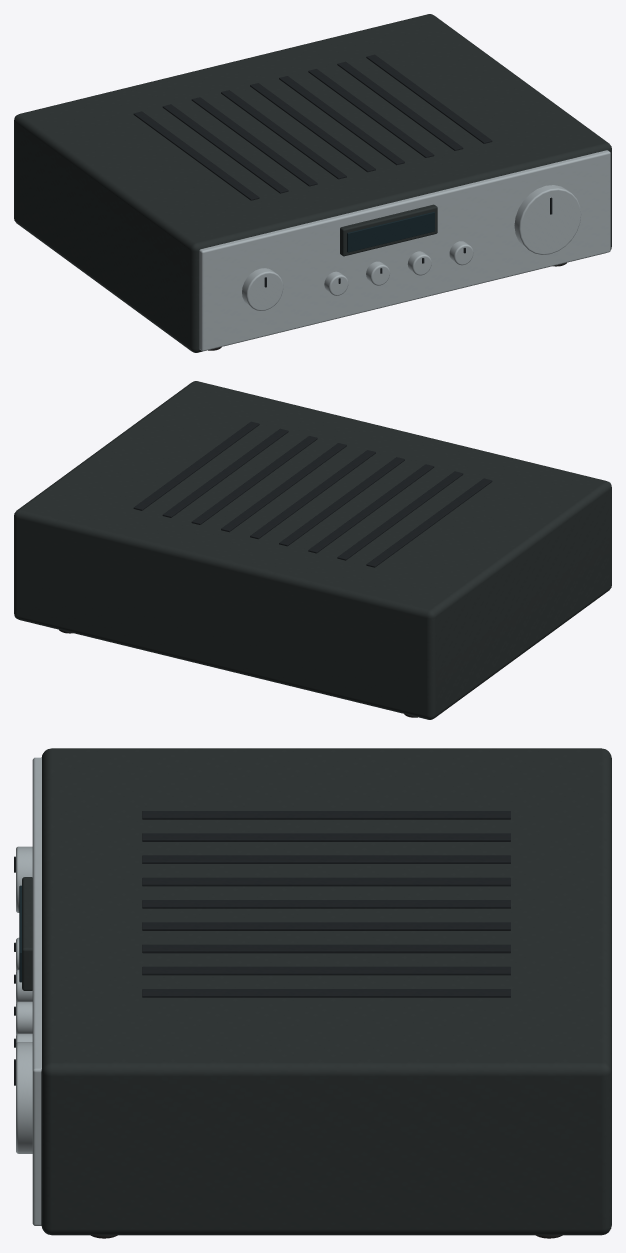
Rendered from amplifier.glb.
The picture shows the model from 3 angles, top to bottom: view 1: azimuth 30°, elevation 25°; view 2: azimuth 150°, elevation 25°; view 3: azimuth 270°, elevation 25°; orthographic projection. The views are drawn at different scales.
Visible parts, largest first — view 1: Main equipment enclosure, Inset front panel, Rotary control, Inset display glass, Rotary control.001, Screen surround, Top cover vent, Top cover vent.002, Top cover vent.001, Top cover vent.003, Top cover vent.006, Top cover vent.007 (+3 smaller); view 2: Main equipment enclosure, Top cover vent, Top cover vent.002, Top cover vent.001, Top cover vent.003, Top cover vent.006, Top cover vent.007, Top cover vent.008, Top cover vent.004, Top cover vent.005; view 3: Main equipment enclosure, Inset front panel, Top cover vent.003, Top cover vent.006, Top cover vent.007, Top cover vent, Top cover vent.001, Top cover vent.002, Top cover vent.004, Top cover vent.005, Top cover vent.008, Rotary control (+2 smaller).
Boxes of the visible parts, bbox=[...] form: Main equipment enclosure: bbox=[14, 14, 611, 352]; Inset front panel: bbox=[199, 150, 610, 351]; Rotary control: bbox=[514, 185, 581, 254]; Inset display glass: bbox=[347, 212, 434, 252]; Rotary control.001: bbox=[242, 268, 283, 310]; Screen surround: bbox=[340, 204, 437, 256]; Top cover vent: bbox=[133, 111, 259, 200]; Top cover vent.002: bbox=[191, 97, 317, 186]; Top cover vent.001: bbox=[162, 104, 288, 193]; Top cover vent.003: bbox=[221, 90, 346, 179]; Top cover vent.006: bbox=[308, 69, 434, 157]; Top cover vent.007: bbox=[337, 61, 463, 150]; Main equipment enclosure: bbox=[14, 381, 611, 719]; Top cover vent: bbox=[366, 478, 492, 567]; Top cover vent.002: bbox=[308, 464, 434, 553]; Top cover vent.001: bbox=[337, 471, 463, 560]; Top cover vent.003: bbox=[279, 457, 404, 546]; Top cover vent.006: bbox=[191, 436, 317, 524]; Top cover vent.007: bbox=[162, 428, 288, 517]; Top cover vent.008: bbox=[133, 421, 259, 510]; Top cover vent.004: bbox=[250, 450, 375, 539]; Top cover vent.005: bbox=[221, 443, 346, 532]; Main equipment enclosure: bbox=[41, 748, 611, 1235]; Inset front panel: bbox=[32, 757, 41, 1225]; Top cover vent.003: bbox=[142, 877, 510, 886]; Top cover vent.006: bbox=[142, 944, 510, 953]; Top cover vent.007: bbox=[142, 966, 510, 975]; Top cover vent: bbox=[142, 811, 510, 819]; Top cover vent.001: bbox=[142, 833, 510, 841]; Top cover vent.002: bbox=[142, 855, 510, 863]; Top cover vent.004: bbox=[142, 900, 510, 908]; Top cover vent.005: bbox=[142, 922, 510, 930]; Top cover vent.008: bbox=[142, 989, 510, 997]; Rotary control: bbox=[16, 1042, 32, 1153].
Size of the model in its own units: 0.434 by 0.1238 by 0.3406.
Materials: 5 (5 with a texture image).
